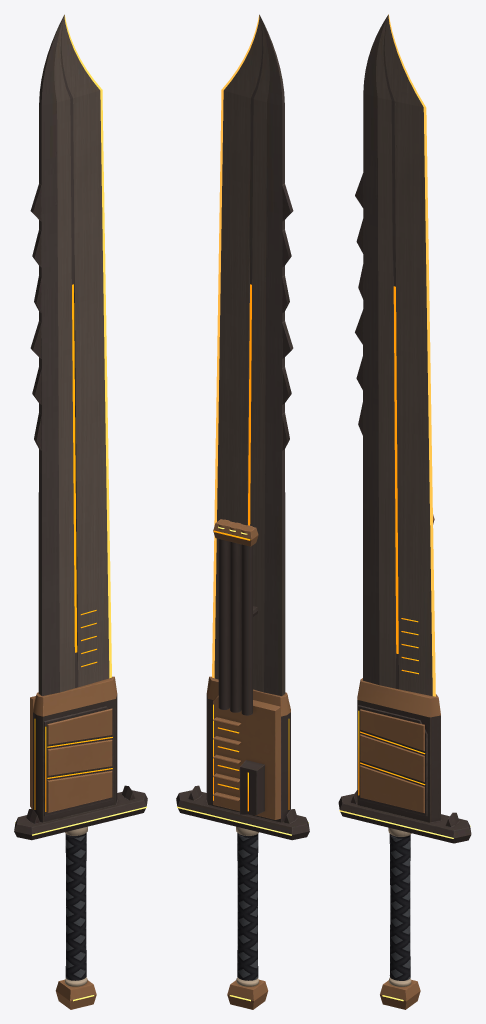
3 views of the same model, side by side, from view 1: azimuth 30°, elevation 25°; view 2: azimuth 150°, elevation 25°; view 3: azimuth 330°, elevation 25° (orthographic).
Visible parts, largest first — view 1: kat_blade_rust, kat_shin_rust, kat_plate_rust, kat_dark_rust, kat_wrap, glow_kat_edge_ember, glow_kat_line_ember; view 2: kat_blade_rust, kat_shin_rust, kat_dark_rust, kat_plate_rust, kat_wrap, glow_kat_edge_ember, glow_kat_line_ember; view 3: kat_blade_rust, kat_shin_rust, kat_plate_rust, kat_dark_rust, kat_wrap, glow_kat_edge_ember, glow_kat_line_ember.
Boxes of the visible parts, x1,y1,x2,y2 form: kat_blade_rust: (54, 15, 109, 692); kat_shin_rust: (38, 15, 78, 695); kat_plate_rust: (30, 676, 117, 1009); kat_dark_rust: (14, 183, 147, 840); kat_wrap: (65, 833, 86, 980); glow_kat_edge_ember: (64, 15, 111, 678); glow_kat_line_ember: (34, 284, 112, 811); kat_blade_rust: (214, 15, 269, 692); kat_shin_rust: (247, 15, 285, 695); kat_dark_rust: (176, 183, 309, 840); kat_plate_rust: (206, 519, 290, 1009); kat_wrap: (237, 833, 258, 980); glow_kat_edge_ember: (212, 15, 259, 678); glow_kat_line_ember: (213, 284, 289, 811); kat_blade_rust: (376, 15, 432, 695); kat_shin_rust: (363, 15, 398, 689); kat_plate_rust: (357, 514, 440, 1009); kat_dark_rust: (338, 173, 471, 843); kat_wrap: (389, 834, 410, 980); glow_kat_edge_ember: (388, 14, 435, 696); glow_kat_line_ember: (358, 286, 425, 795).
Size of the model in its own units: 0.28 by 1.98 by 0.0934.
9 materials, 6 textured.
